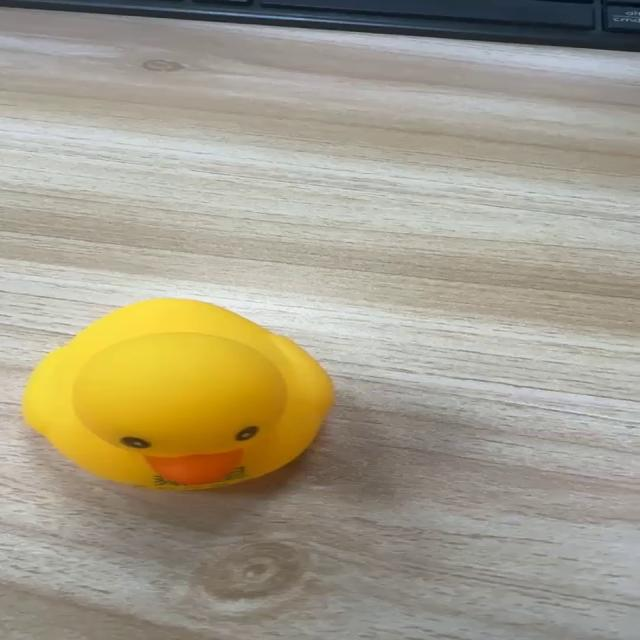yellow_duck: (20, 296, 336, 491)
